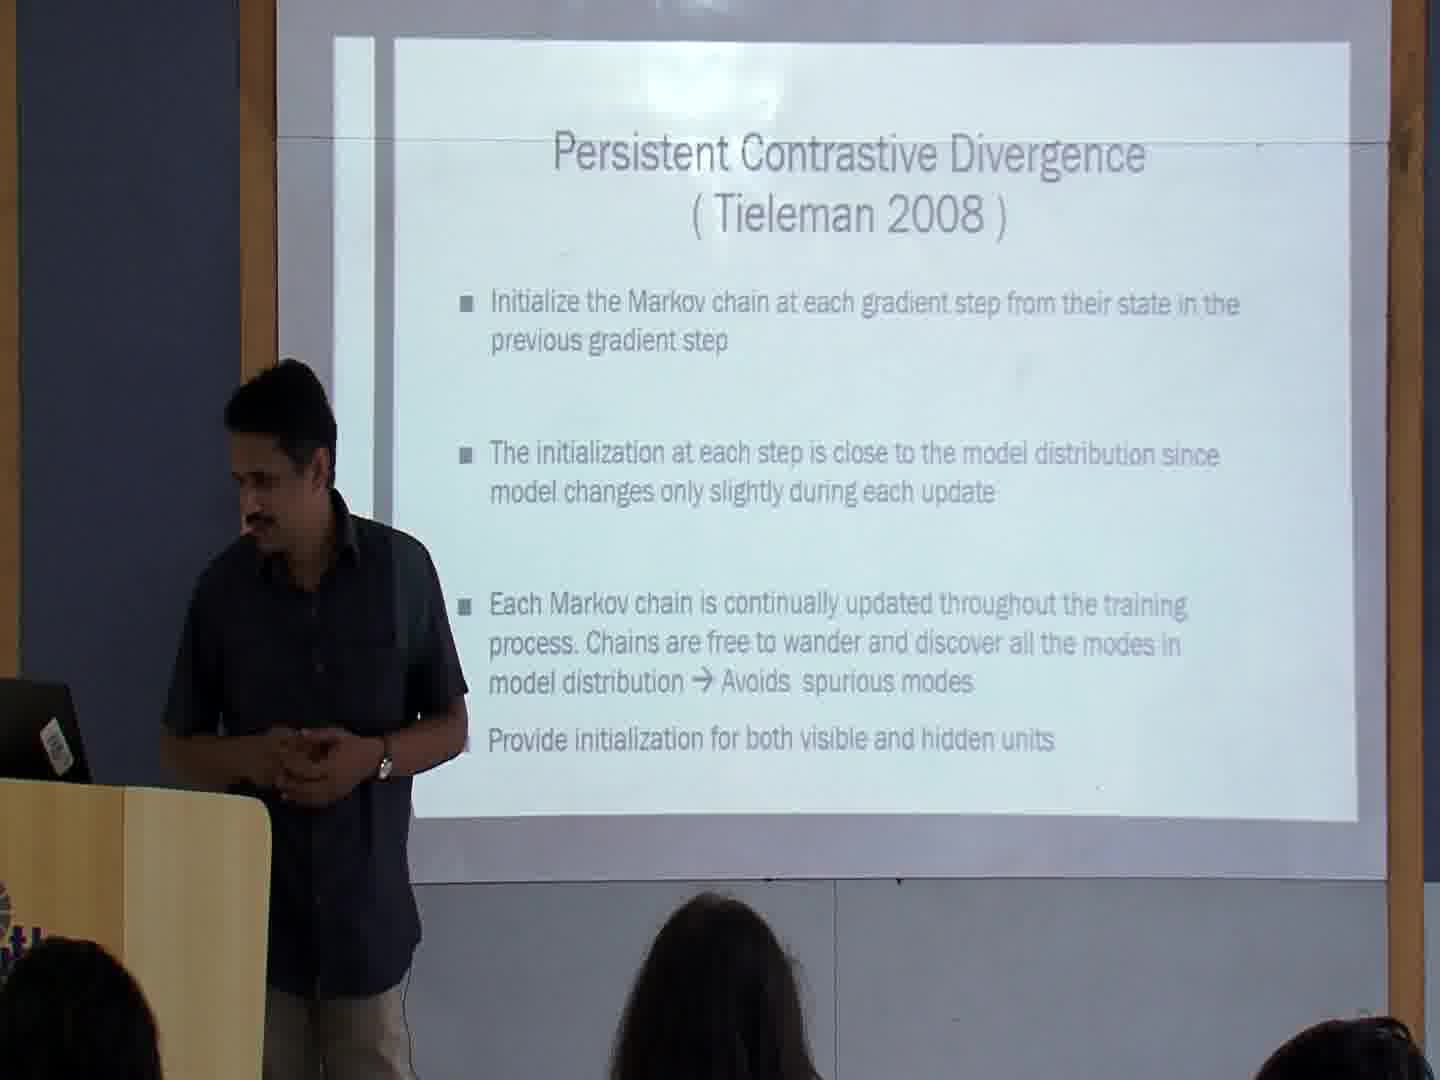slide: (331, 36, 1358, 819)
